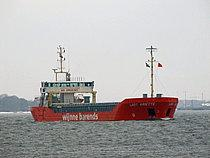Ship: (28, 42, 181, 125)
